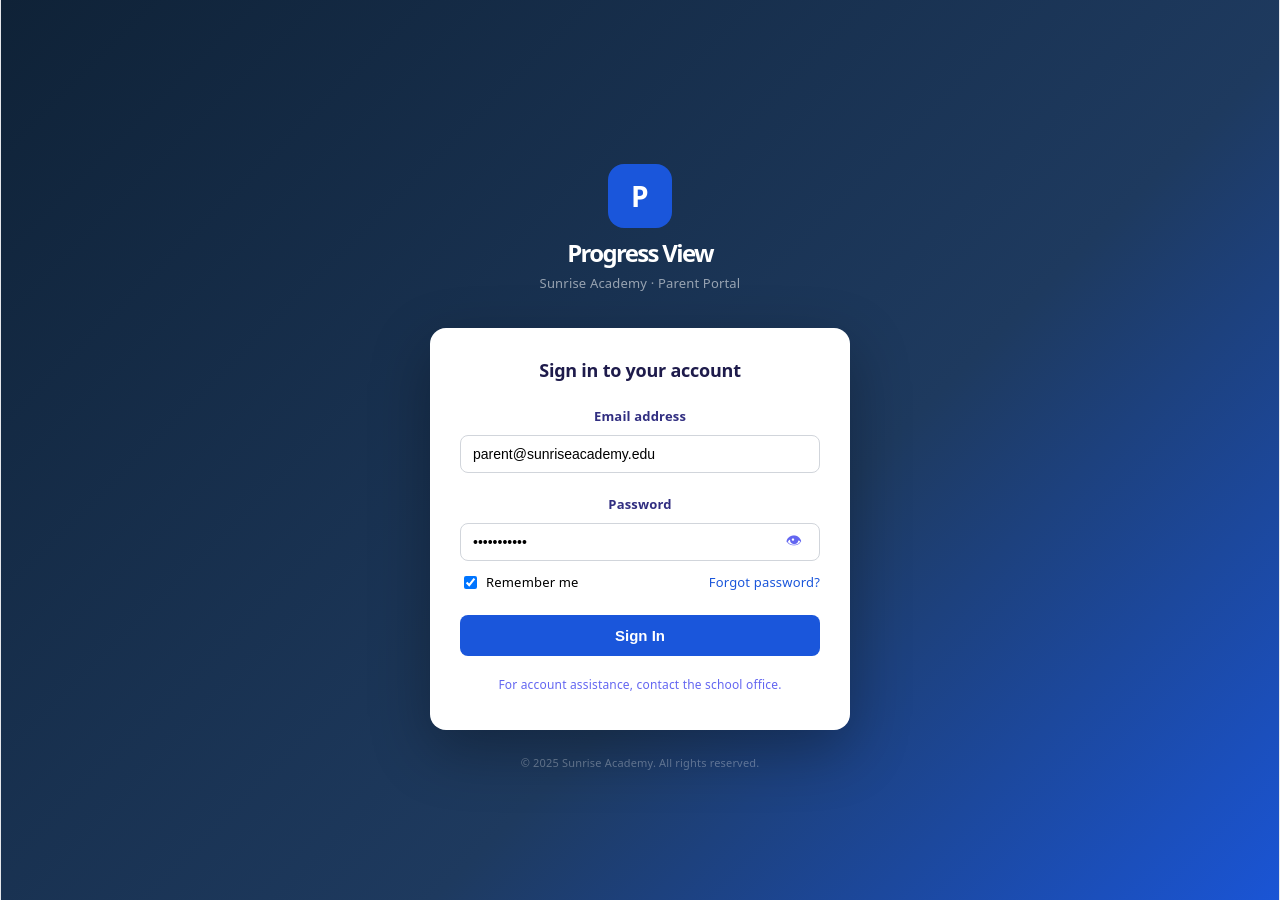
Scenario: ProgressView Unique Tests (120+ Cases) › 2. Login Screen Logic & Interactions › 2.5 Should show credentials validation error message when submit is clicked with empty inputs
The image size is (1280, 900).
Clear the field with placeholder "you@example.com" at point(640, 454), box [460, 435, 820, 473]
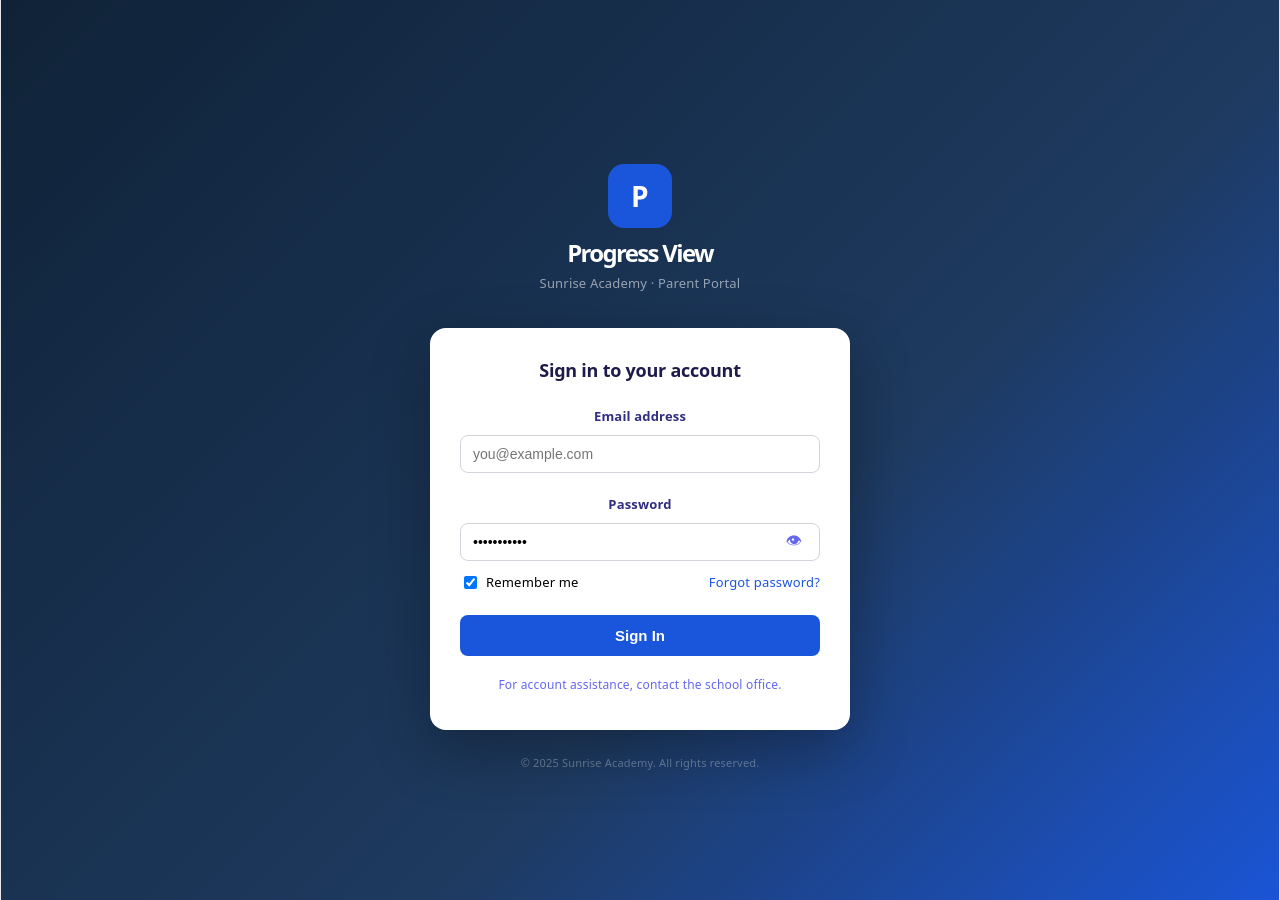
Clear the password field with placeholder "••••••••" at point(640, 542), box [460, 523, 820, 561]
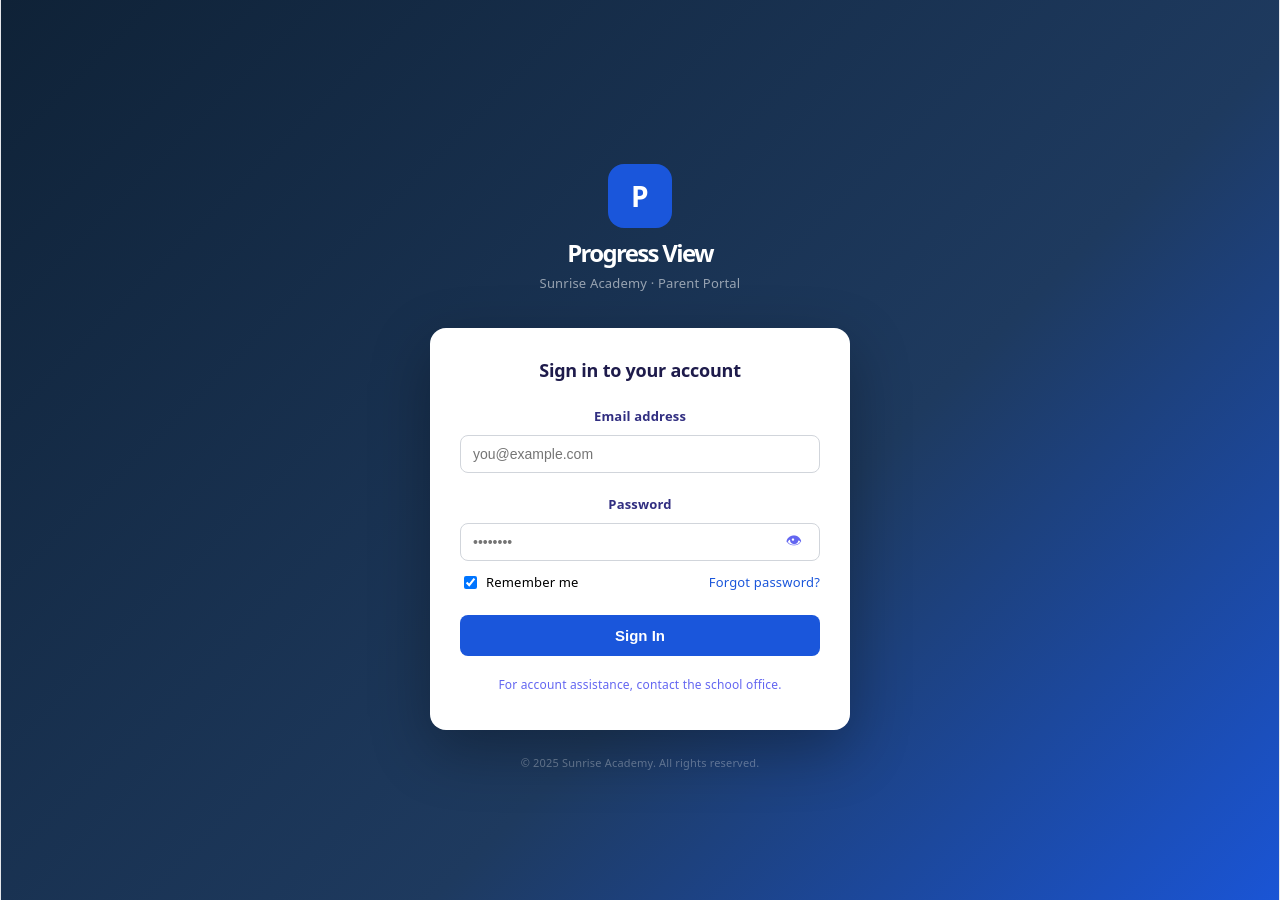
Click the button "Sign In".
click(640, 636)  # box [460, 615, 820, 656]
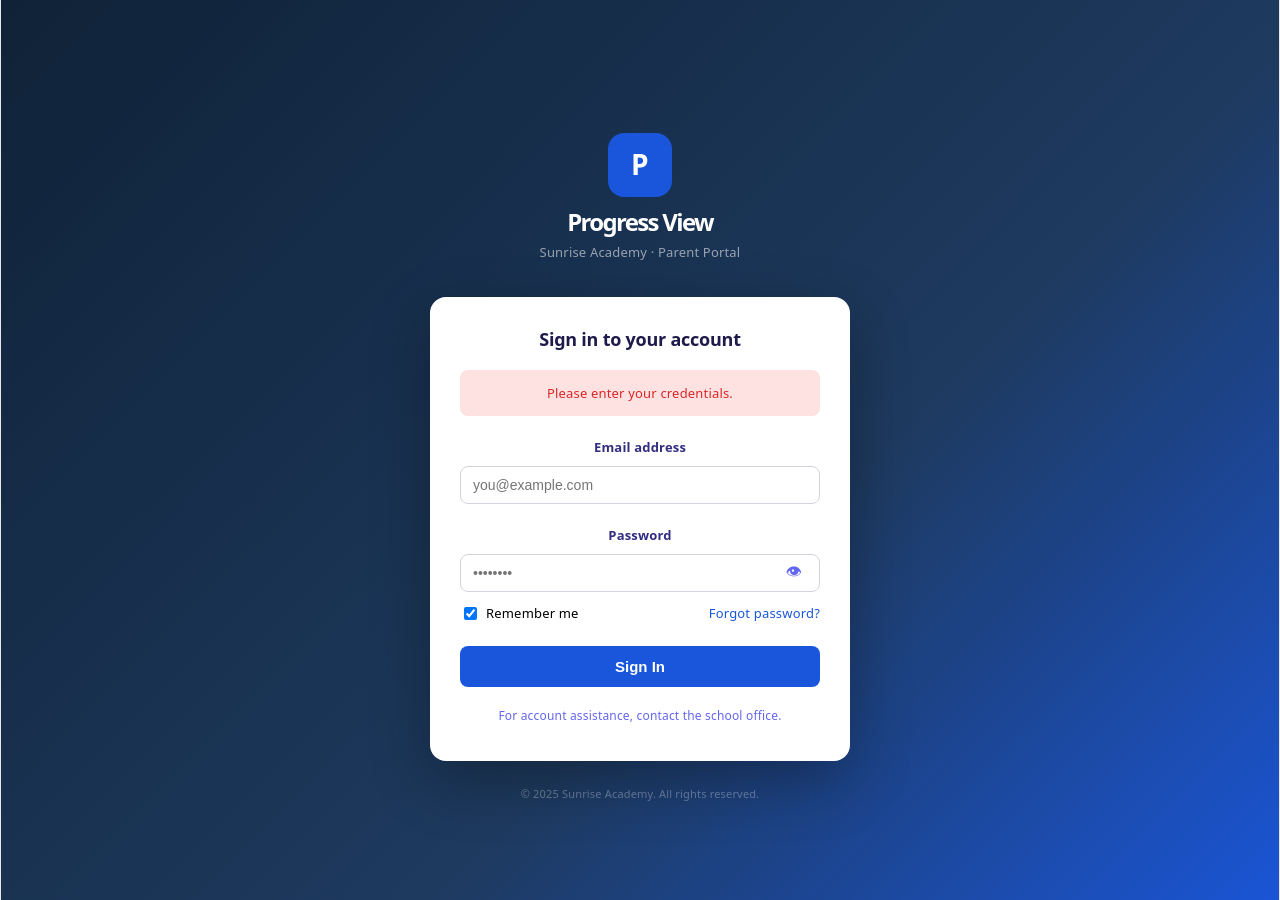
Now the text "Please enter your credentials." is shown, box [460, 370, 820, 416]
